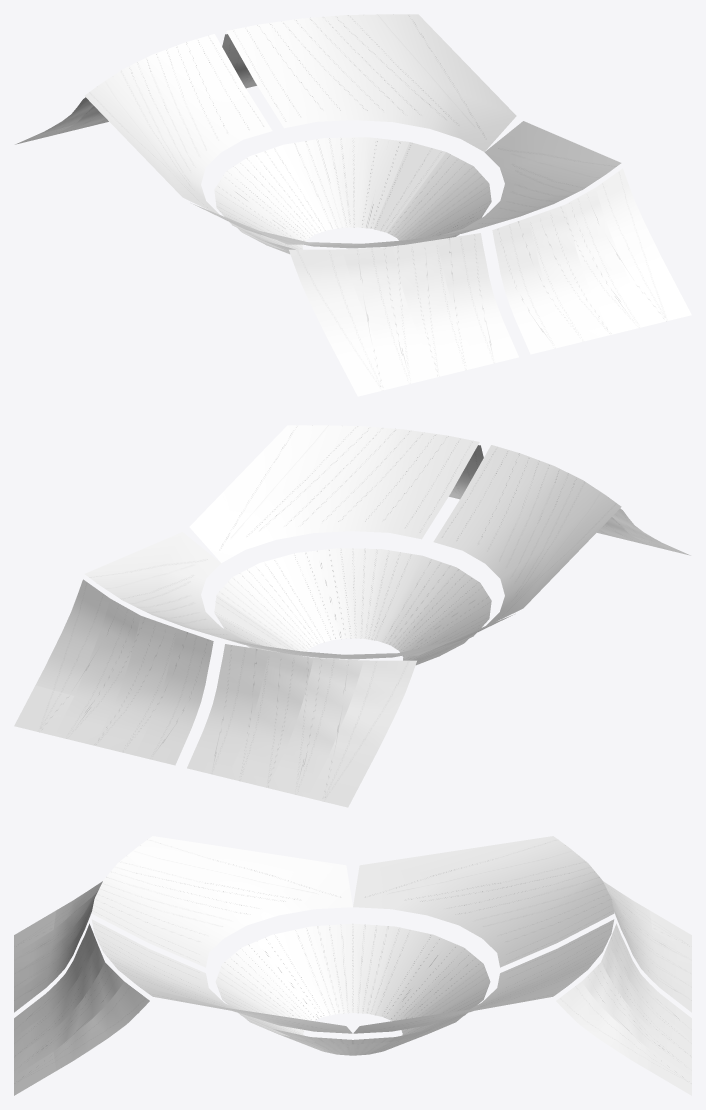
The model's file is Cotton.obj.
3 views of the same model, one above another, from view 1: azimuth 30°, elevation 25°; view 2: azimuth 150°, elevation 25°; view 3: azimuth 270°, elevation 25° (orthographic).
Visible parts, largest first — view 1: Cotton:polySurface19, Cotton:pPlane14, Cotton:pCylinder36, Cotton:pPlane13, Cotton:pPlane15, Cotton:pPlane16; view 2: Cotton:polySurface19, Cotton:pPlane15, Cotton:pCylinder36, Cotton:pPlane16, Cotton:pPlane14, Cotton:pPlane13; view 3: Cotton:polySurface19, Cotton:pCylinder36, Cotton:pPlane16, Cotton:pPlane13, Cotton:pPlane14, Cotton:pPlane15, Cotton:pCylinder35.
Part boxes in pixels (x1,y1,x2,y2): Cotton:polySurface19: (84,14,621,248); Cotton:pPlane14: (289,233,518,396); Cotton:pCylinder36: (214,137,491,251); Cotton:pPlane13: (492,168,691,354); Cotton:pPlane15: (15,97,108,144); Cotton:pPlane16: (222,34,256,88); Cotton:polySurface19: (84,425,621,659); Cotton:pPlane15: (187,644,416,807); Cotton:pCylinder36: (214,548,491,662); Cotton:pPlane16: (14,579,213,765); Cotton:pPlane14: (597,508,690,555); Cotton:pPlane13: (449,445,483,499); Cotton:polySurface19: (91,836,614,1033); Cotton:pCylinder36: (215,923,490,1044); Cotton:pPlane16: (556,923,691,1095); Cotton:pPlane13: (14,923,149,1095); Cotton:pPlane14: (14,881,102,1012); Cotton:pPlane15: (603,881,691,1012); Cotton:pCylinder35: (243,1016,462,1055).
Size of the model in its own units: 15.5 by 5.29 by 27.63.
Materials: 4 (4 with a texture image).
